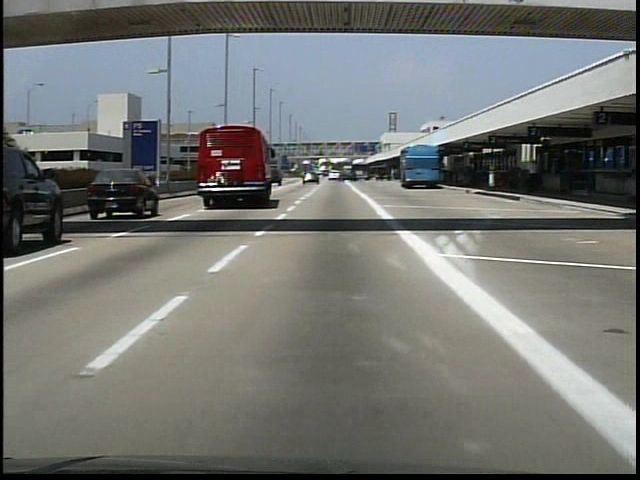person: (527, 157, 541, 193)
